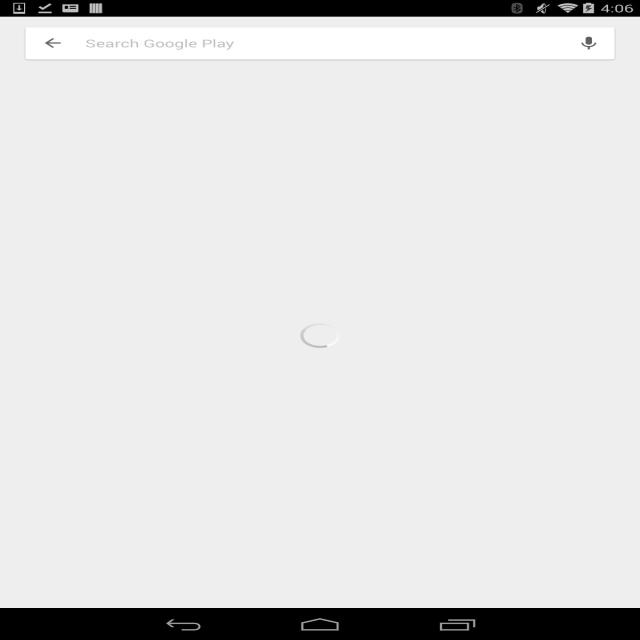button: (572, 28, 607, 55), (39, 30, 69, 56)
field: (27, 27, 615, 59)
label: (81, 36, 237, 52)
